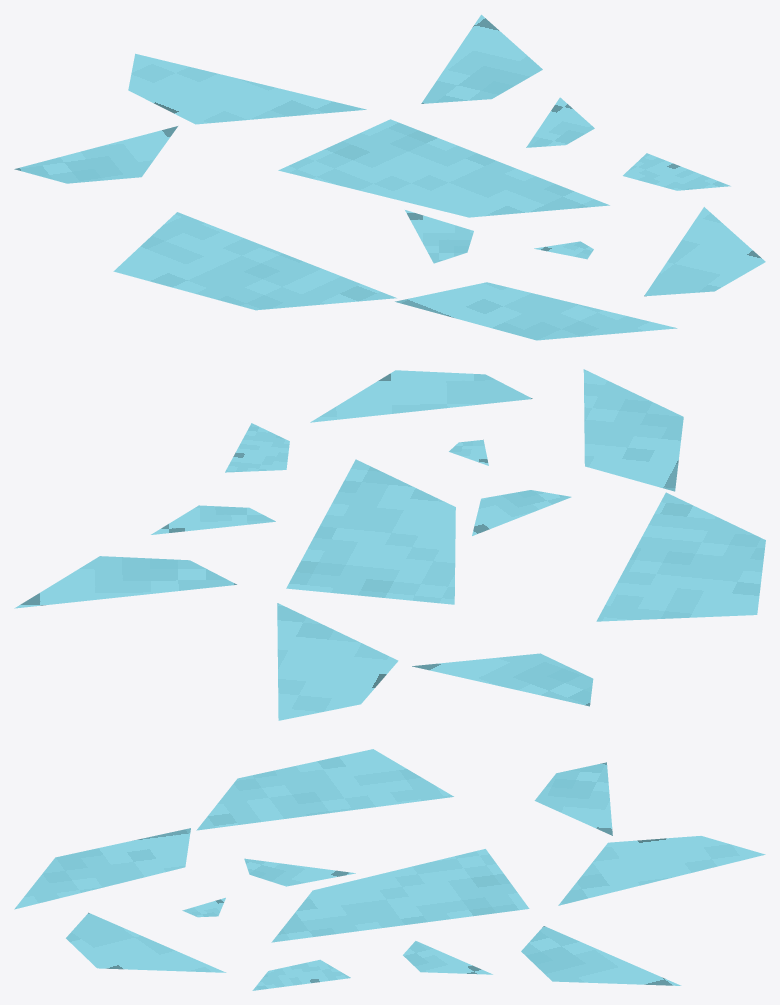
The model's file is BGN_BROKEN GLASS.fbx.
3 views of the same model, one above another, from view 1: azimuth 30°, elevation 25°; view 2: azimuth 150°, elevation 25°; view 3: azimuth 270°, elevation 25° (orthographic). The views are drawn at different scales.
Parts seen in each view (by area): view 1: BGN_BROKEN_GLASS; view 2: BGN_BROKEN_GLASS; view 3: BGN_BROKEN_GLASS.
Part boxes in pixels (x1,y1,x2,y2): BGN_BROKEN_GLASS: [14, 14, 765, 340]; BGN_BROKEN_GLASS: [14, 369, 765, 720]; BGN_BROKEN_GLASS: [14, 749, 765, 990].
Size of the model in its own units: 74.77 by 0.0574 by 98.17.
